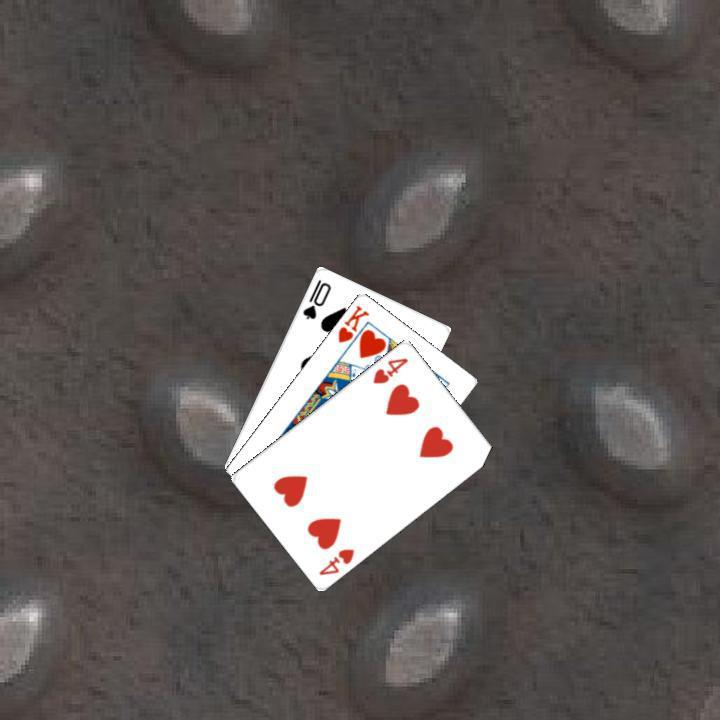10: (298, 274, 333, 321)
4: (314, 543, 356, 577), (368, 353, 410, 386)
K: (333, 300, 371, 345)
